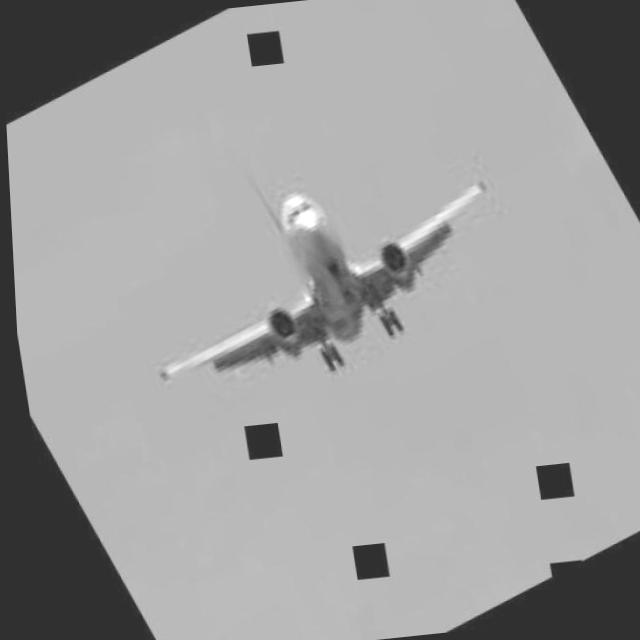aeroplane: (108, 175, 514, 402)
